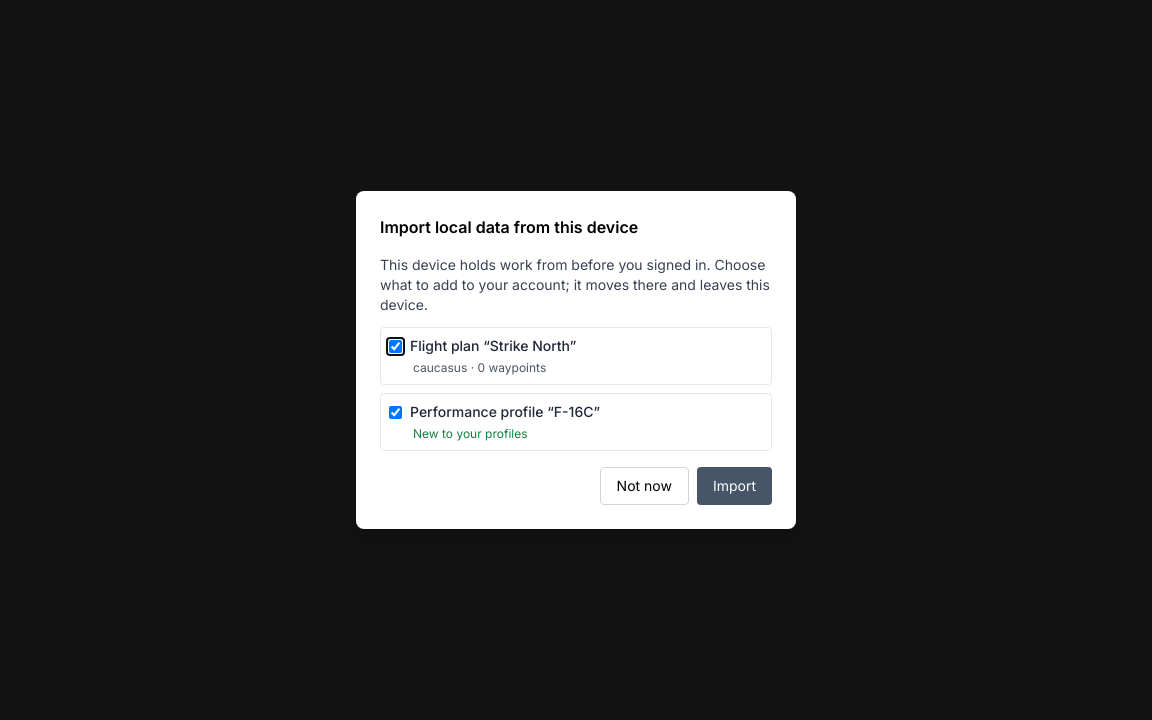
LocalDataMigration › the chooser reports an import that throws and stays usable
Expected: the element with test id "import-chooser" is shown, 380,327 -> 772,451
Click the button "Import": coordinates (734, 486) 697,467 -> 772,505
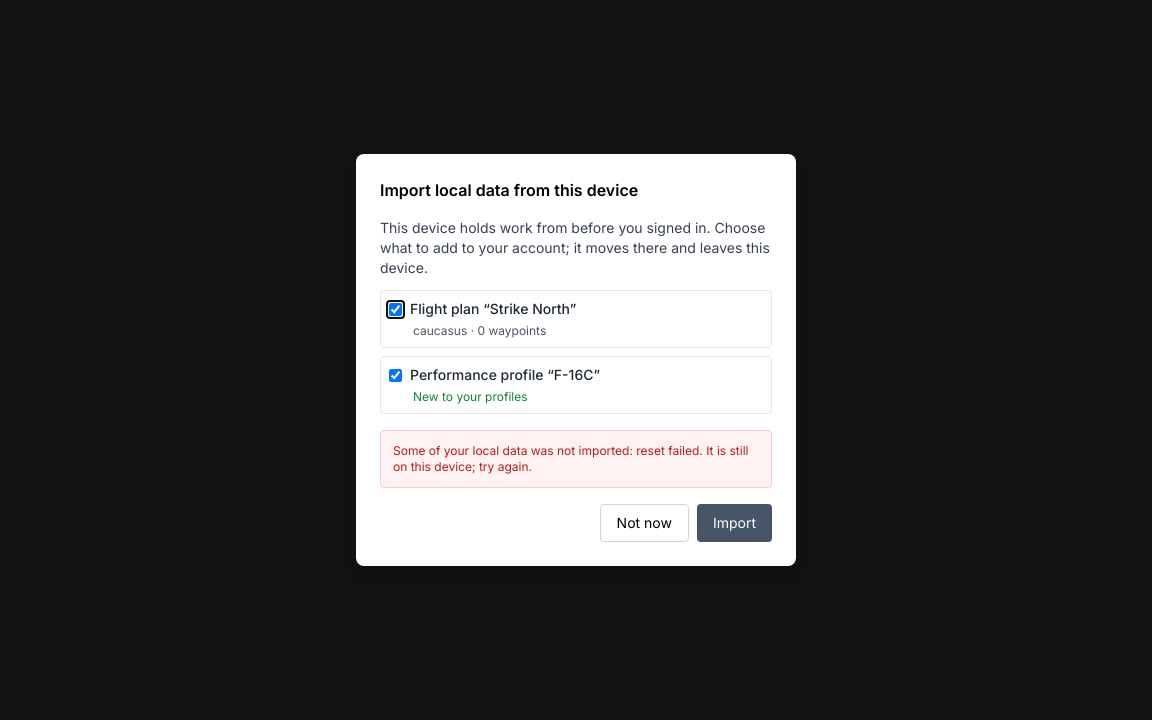
Expected: the button "Import" is enabled, 697,504 -> 772,542
Result: the message shows "reset failed" at 393,443 -> 748,474
